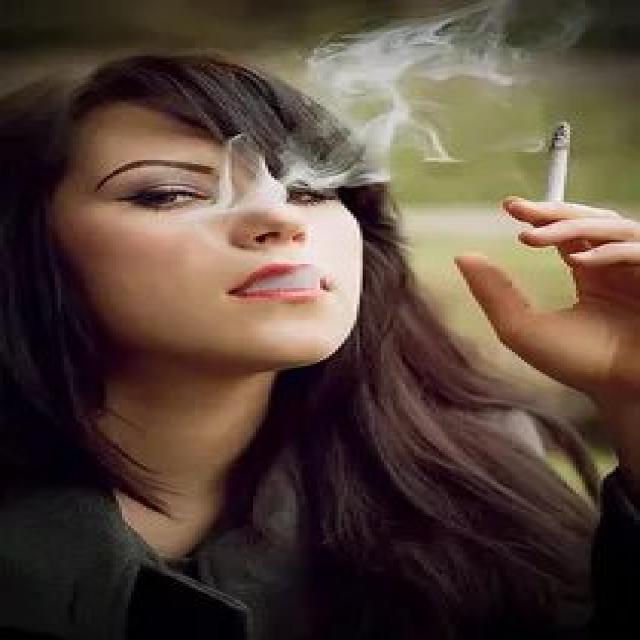smoke: (539, 116, 579, 202)
